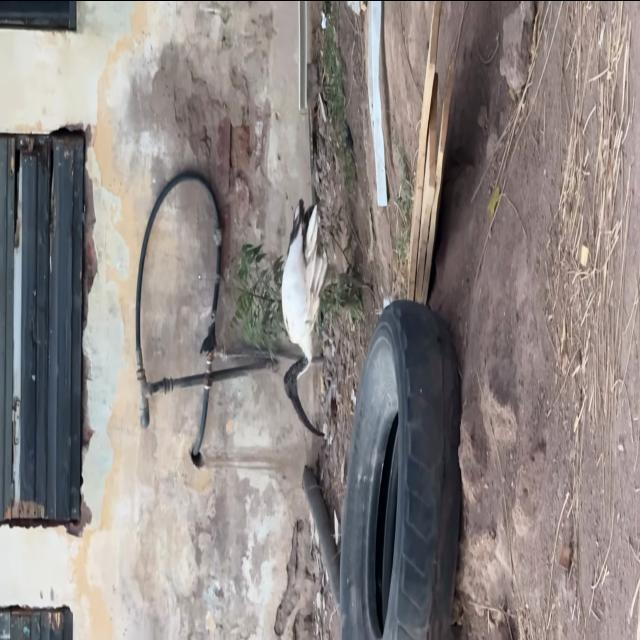Birds-Ibis: (280, 196, 378, 442)
